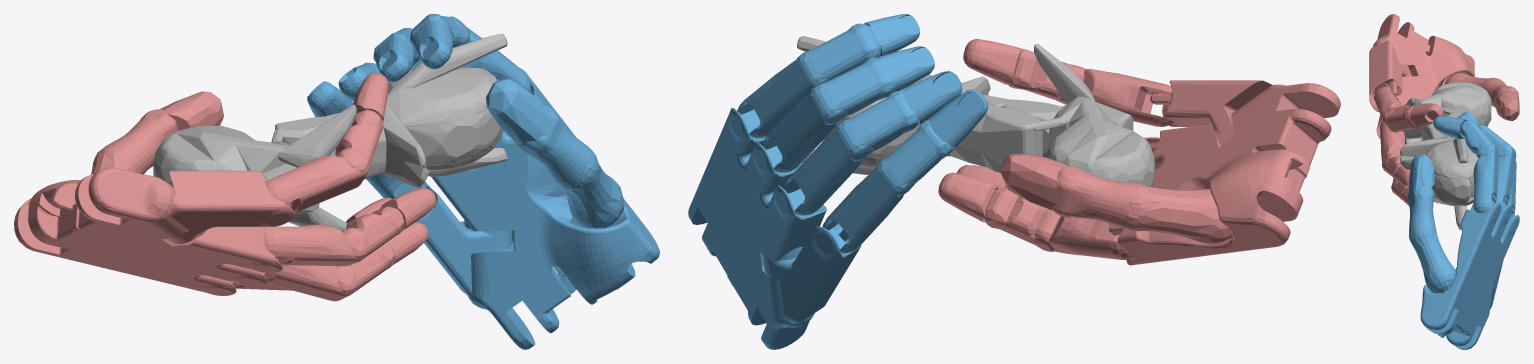
Rendered from MotorCycle_mesh.glb.
3 views of the same model, side by side, from view 1: azimuth 30°, elevation 25°; view 2: azimuth 150°, elevation 25°; view 3: azimuth 270°, elevation 25° (orthographic). The views are drawn at different scales.
Parts seen in each view (by area): view 1: geom_2, geom_1, geom_0; view 2: geom_1, geom_2, geom_0; view 3: geom_1, geom_2, geom_0.
Boxes of the visible parts, left/top/right/bottom form: geom_2: left=14, top=72, right=436, bottom=301; geom_1: left=307, top=14, right=659, bottom=349; geom_0: left=153, top=33, right=507, bottom=230; geom_1: left=688, top=14, right=988, bottom=349; geom_2: left=938, top=39, right=1340, bottom=265; geom_0: left=797, top=36, right=1155, bottom=187; geom_1: left=1407, top=111, right=1519, bottom=349; geom_2: left=1369, top=14, right=1519, bottom=205; geom_0: left=1400, top=82, right=1491, bottom=229.
Size of the model in its own units: 0.3285 by 0.1773 by 0.1186.
